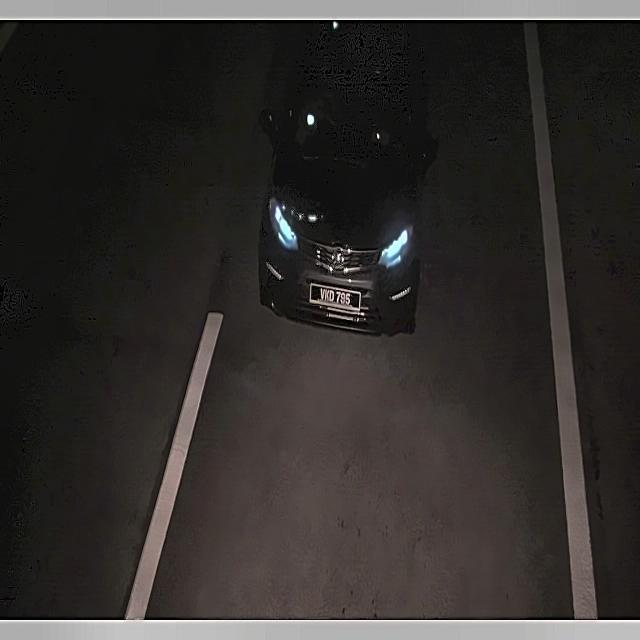car: (306, 276, 364, 315)
